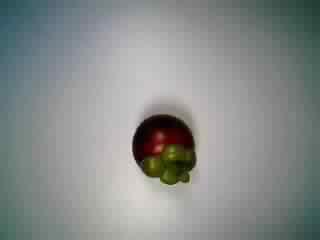mangosteen: (123, 111, 206, 186)
